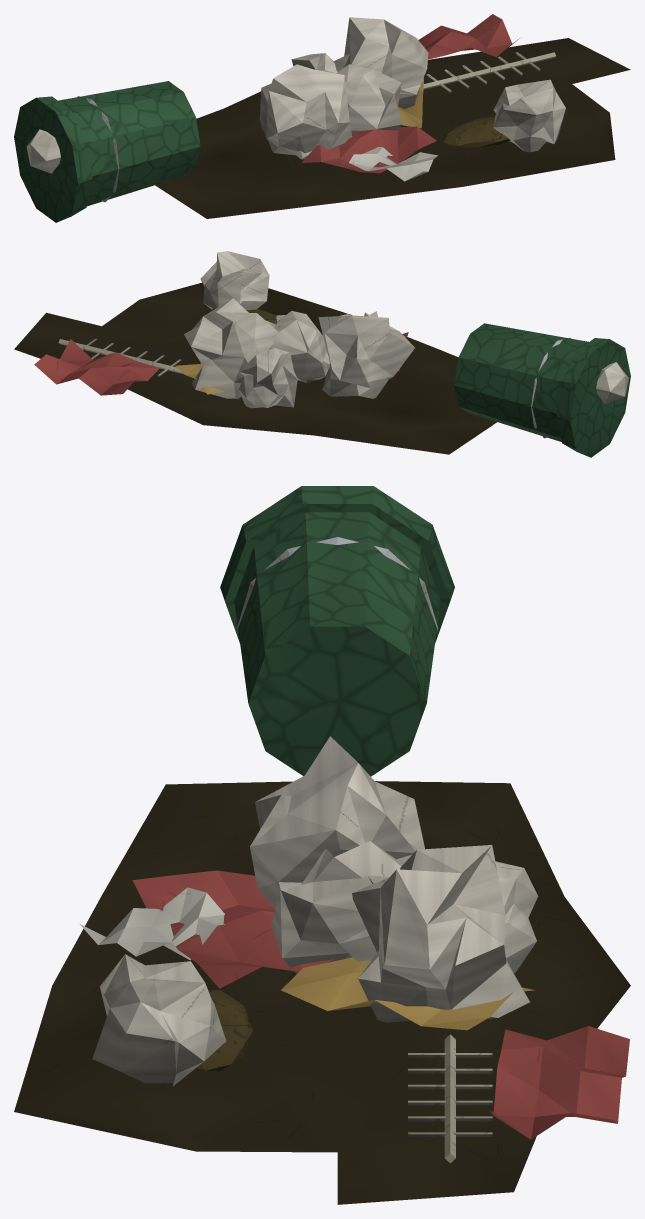
Rendered from spilled_bin.glb.
The picture shows the model from 3 angles, top to bottom: view 1: azimuth 30°, elevation 25°; view 2: azimuth 150°, elevation 25°; view 3: azimuth 270°, elevation 25°; orthographic projection. The views are drawn at different scales.
Visible parts, largest first — view 1: spilled_bin, trash_bin_0, crumpled_paper_12, crumpled_paper_8, crumpled_paper_16, crumpled_paper_14, crumpled_paper_10; view 2: spilled_bin, trash_bin_0, crumpled_paper_12, crumpled_paper_8, crumpled_paper_16, crumpled_paper_10, crumpled_paper_14; view 3: spilled_bin, trash_bin_0, crumpled_paper_8, crumpled_paper_12, crumpled_paper_16, crumpled_paper_14, crumpled_paper_10.
Boxes of the visible parts, x1,y1,x2,y2 form: spilled_bin: (155,14,630,218); trash_bin_0: (14,81,200,222); crumpled_paper_12: (259,64,352,158); crumpled_paper_8: (333,17,428,109); crumpled_paper_16: (493,79,565,152); crumpled_paper_14: (336,64,402,132); crumpled_paper_10: (291,53,337,73); spilled_bin: (14,282,496,454); trash_bin_0: (454,323,630,457); crumpled_paper_12: (318,312,414,398); crumpled_paper_8: (184,298,278,399); crumpled_paper_16: (200,251,269,309); crumpled_paper_10: (238,348,297,408); crumpled_paper_14: (270,311,330,382); spilled_bin: (14,781,630,1204); trash_bin_0: (220,486,454,776); crumpled_paper_8: (352,845,529,1022); crumpled_paper_12: (250,736,424,908); crumpled_paper_16: (92,954,226,1086); crumpled_paper_14: (271,841,401,973); crumpled_paper_10: (495,861,538,972).
Size of the model in its own units: 13.61 by 2.63 by 6.56.
10 materials, 10 textured.
